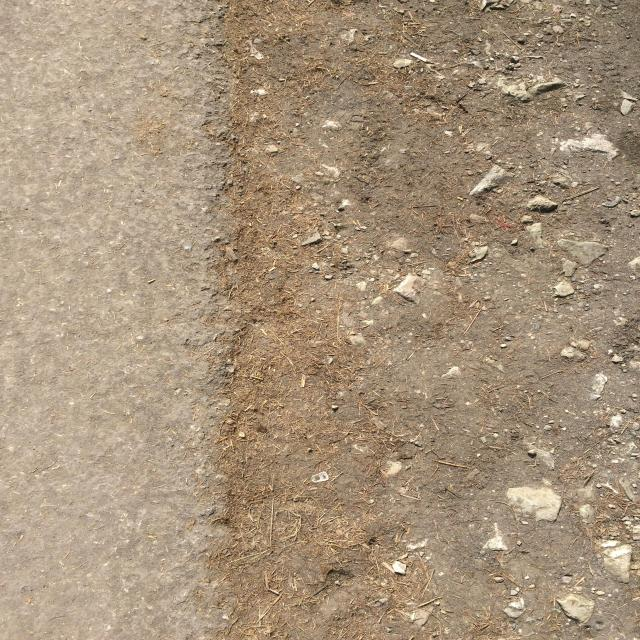Cigarette: (409, 52, 430, 62)
Pop tab: (311, 471, 329, 483)
